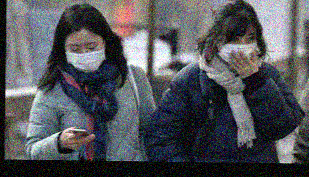with_mask: (64, 40, 106, 74), (220, 31, 258, 67)
